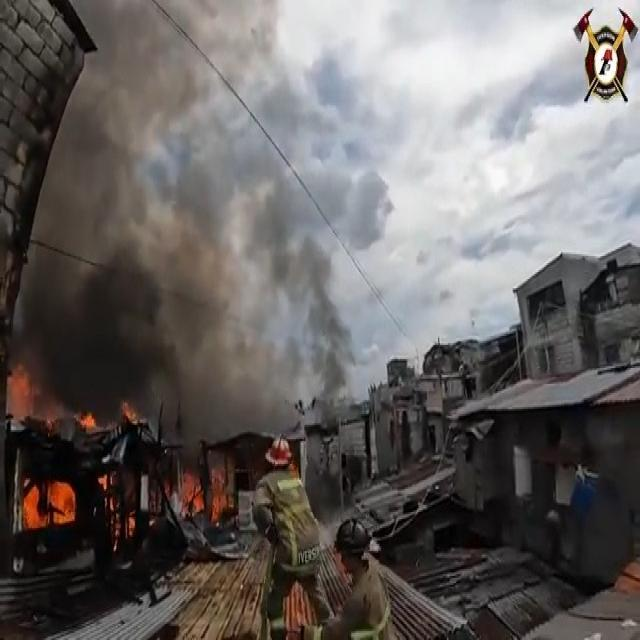Fire: (94, 463, 140, 558), (170, 458, 230, 530), (18, 471, 78, 534), (5, 360, 46, 430), (74, 408, 98, 431)
Smoke: (19, 128, 294, 454)
